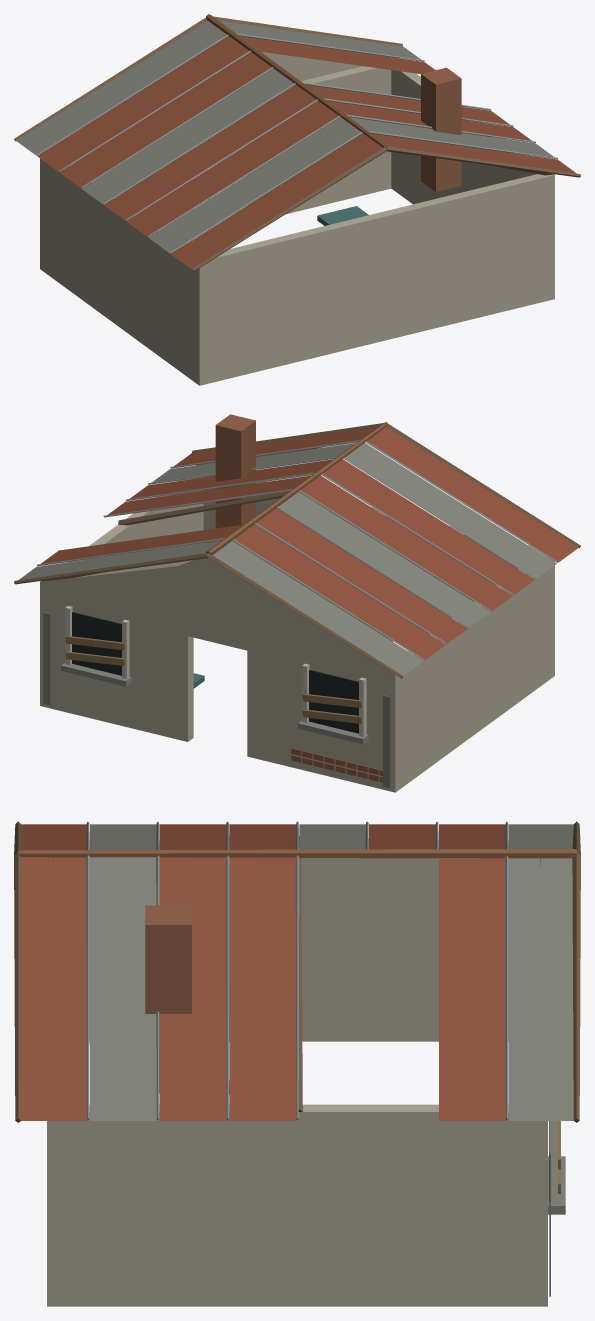
Rendered from abandoned.glb.
3 renders of one model, top to bottom at view 1: azimuth 30°, elevation 25°; view 2: azimuth 150°, elevation 25°; view 3: azimuth 270°, elevation 25°, orthographic. The views are drawn at different scales.
Parts seen in each view (by area): view 1: abandoned_visual; view 2: abandoned_visual; view 3: abandoned_visual.
Boxes of the visible parts, x1=… form: abandoned_visual: x1=14, y1=14, x2=580, y2=385; abandoned_visual: x1=14, y1=414, x2=580, y2=792; abandoned_visual: x1=14, y1=821, x2=580, y2=1306.
Size of what is drawn, in the model's own units: 9.83 by 5.15 by 7.92.
